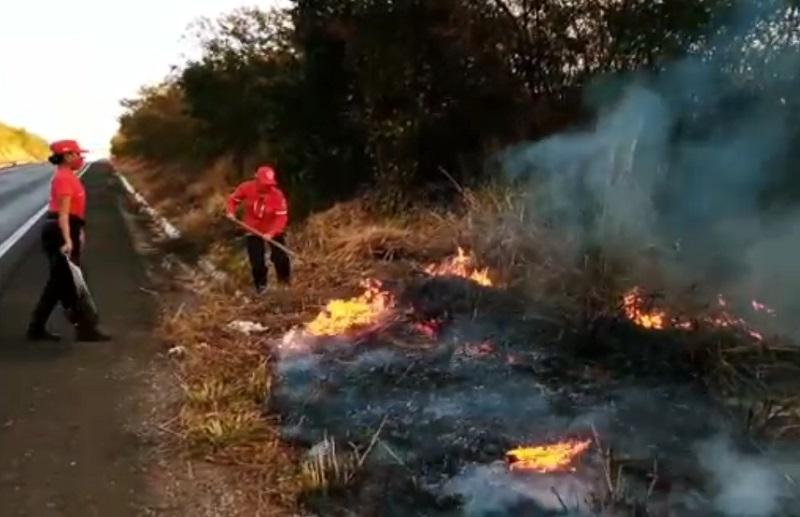fire: (316, 282, 384, 332)
smoke: (557, 126, 800, 306), (694, 444, 794, 506)
